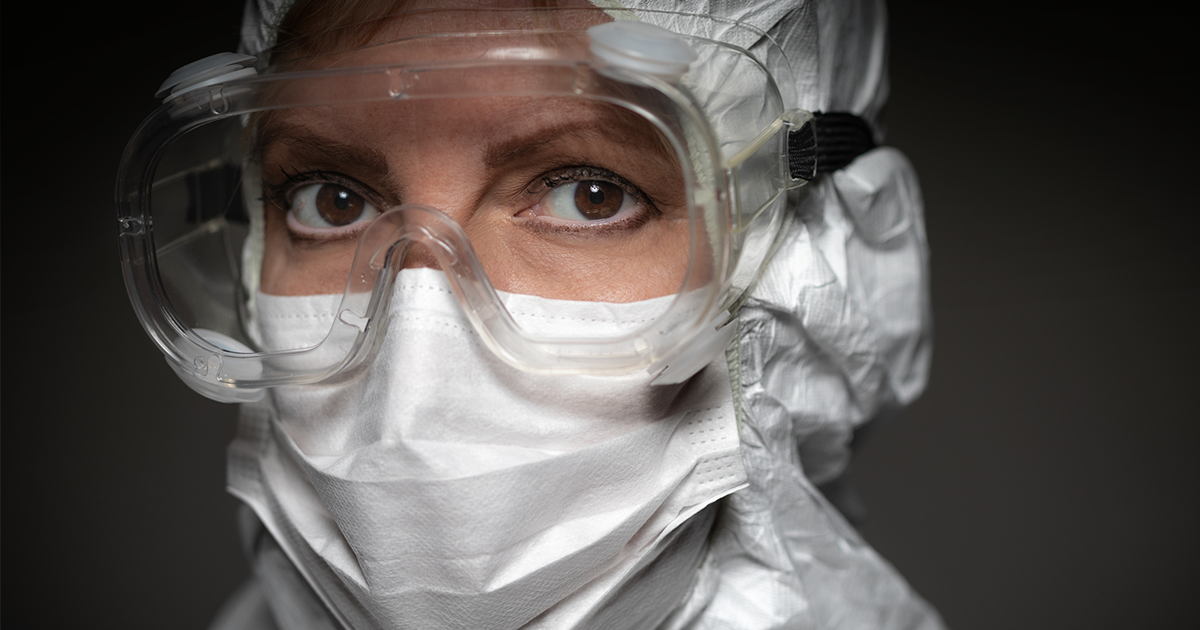Goggles: (98, 11, 812, 398)
with_mask: (226, 180, 705, 626)
